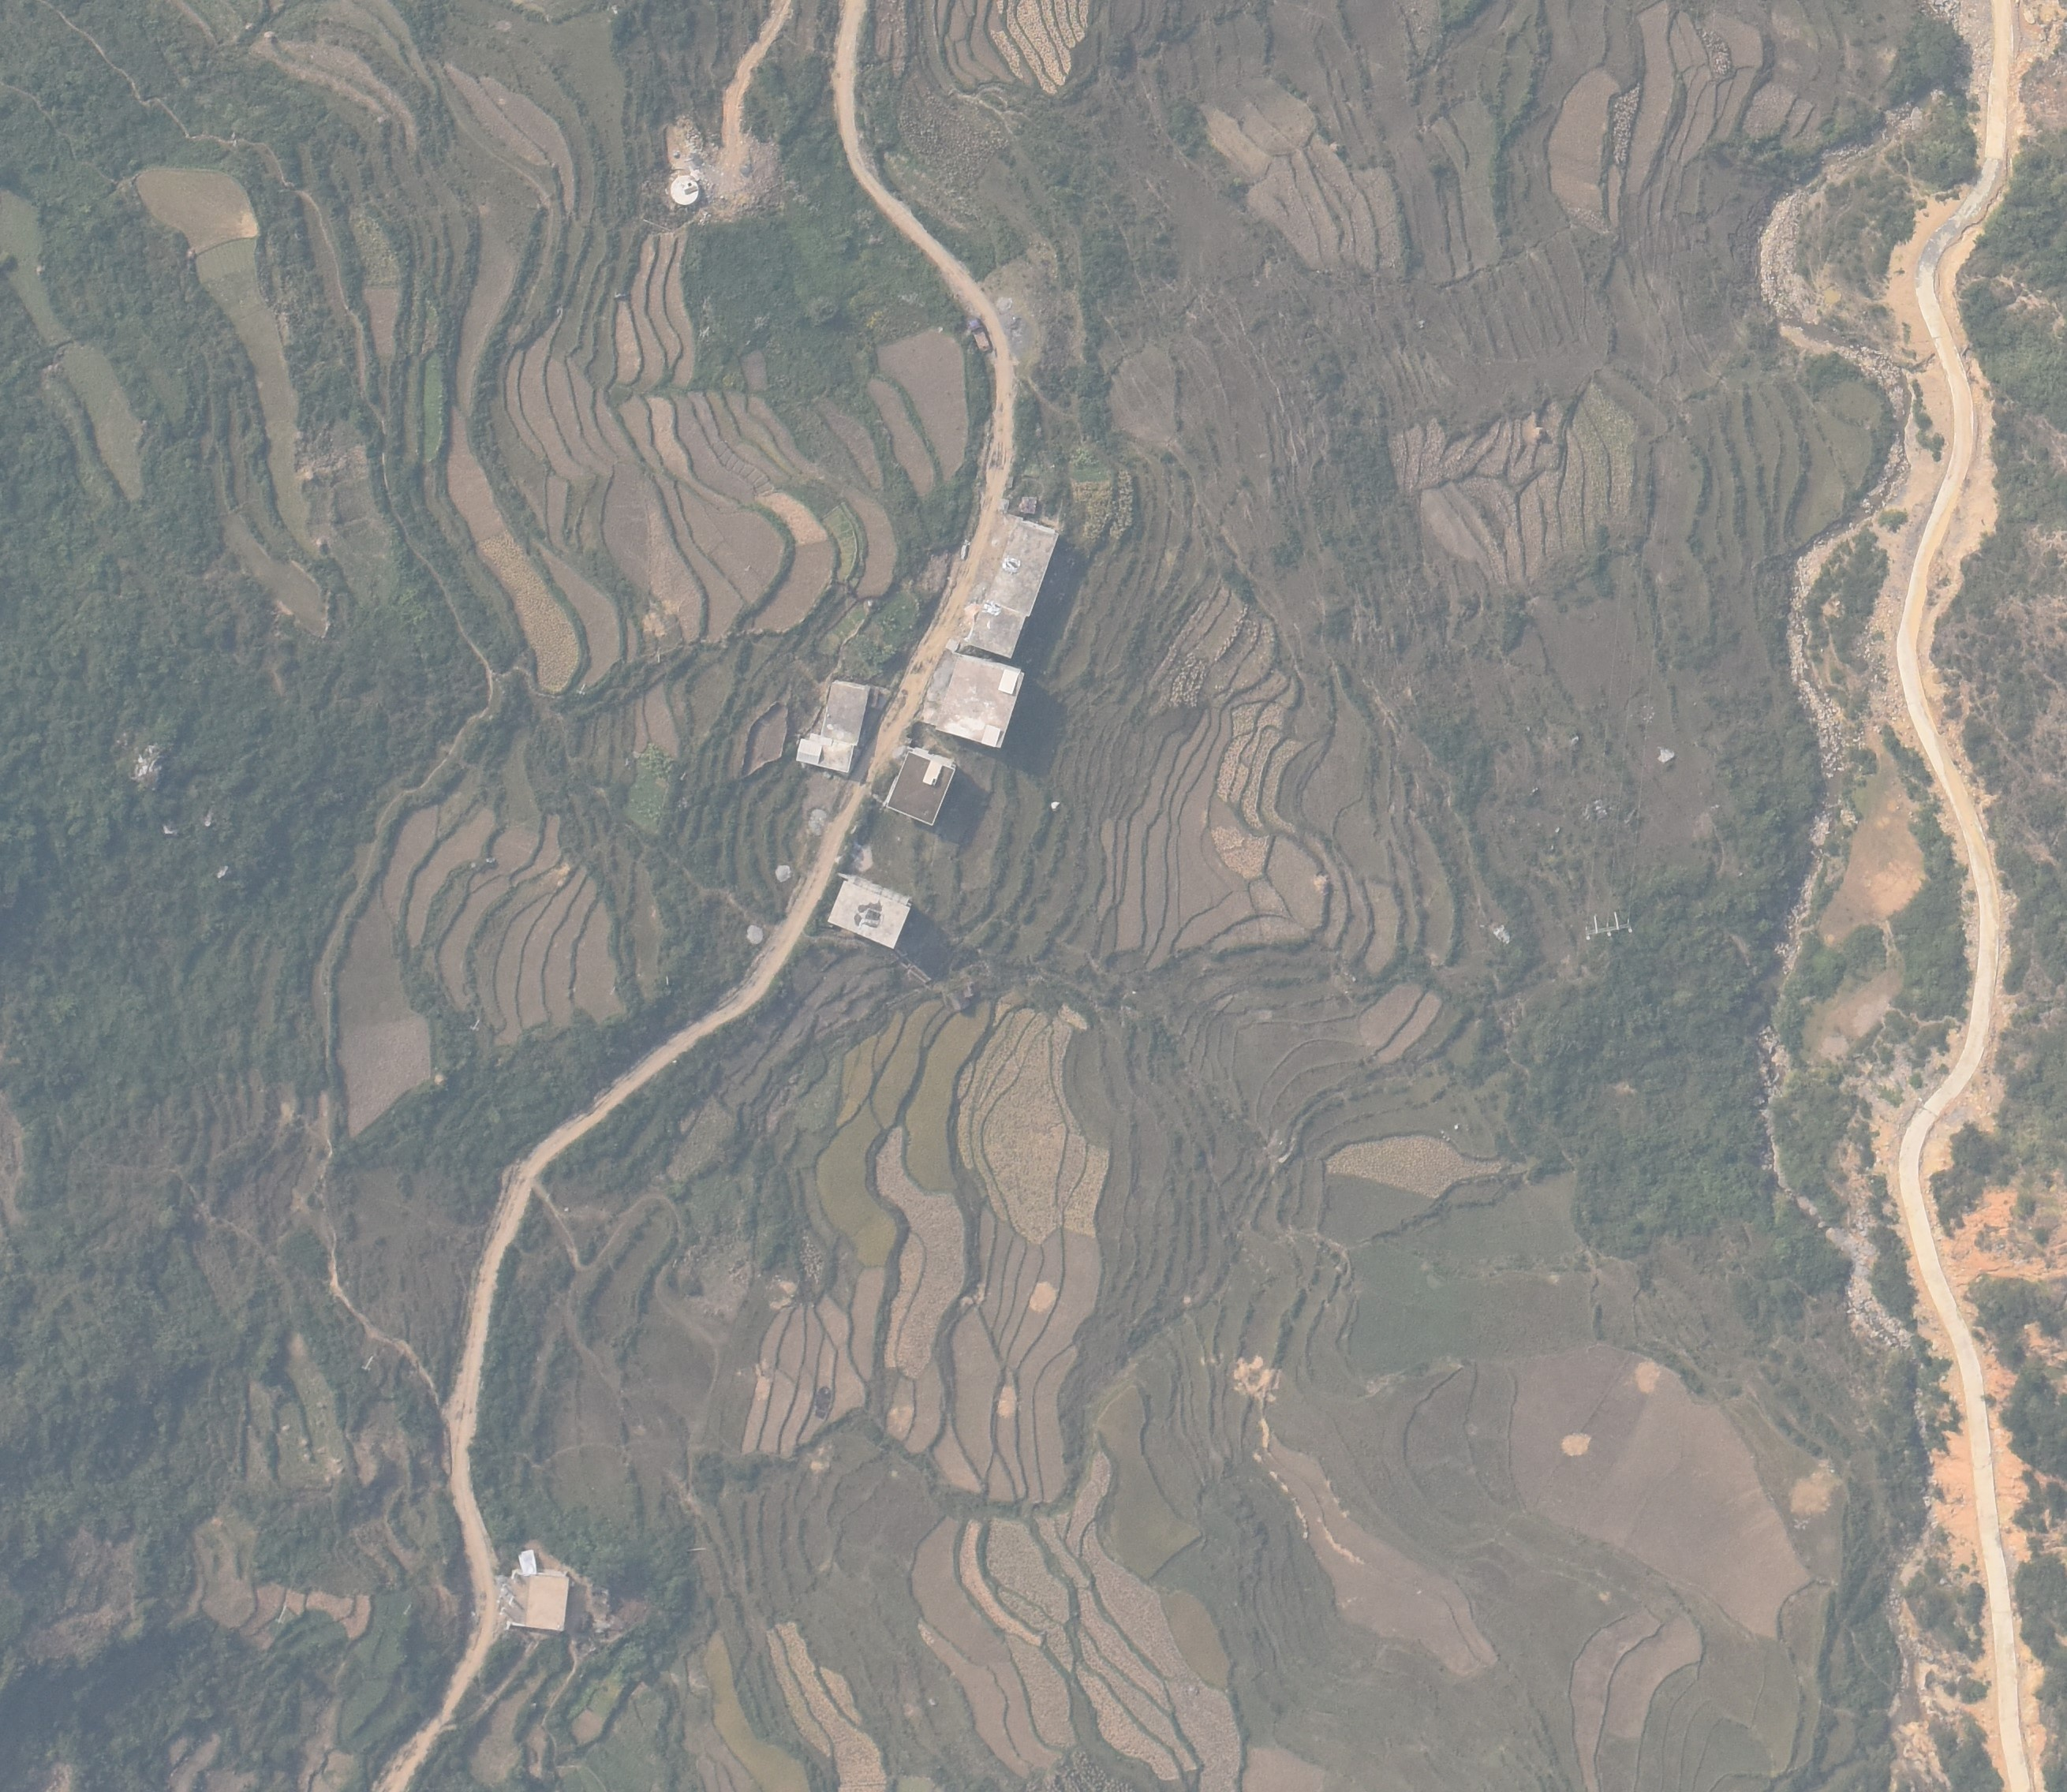building: (965, 518, 1060, 659), (935, 654, 1025, 748), (796, 680, 870, 775), (826, 880, 912, 949), (884, 748, 956, 827), (511, 1569, 571, 1632)
cable-tower: (1584, 912, 1631, 942), (274, 1604, 286, 1623), (360, 1355, 373, 1372), (468, 1017, 480, 1031), (575, 683, 587, 696), (401, 1604, 411, 1616)
well: (670, 176, 700, 206)
